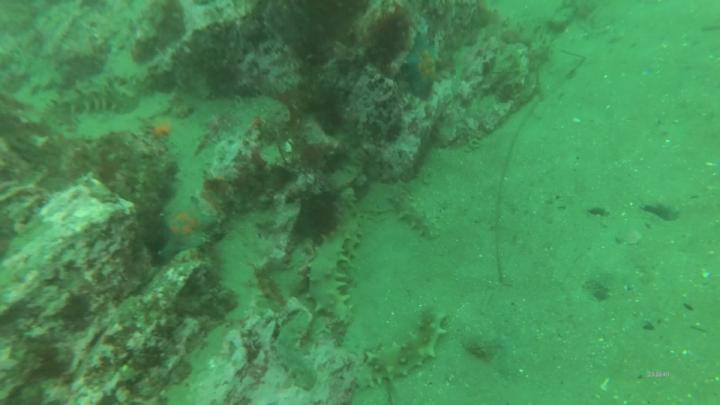echinus: (295, 186, 346, 250)
holothurian: (354, 308, 447, 391), (304, 213, 365, 325), (268, 307, 323, 391), (47, 83, 140, 121), (387, 180, 441, 241)
starfish: (158, 196, 217, 259), (401, 33, 441, 101)
